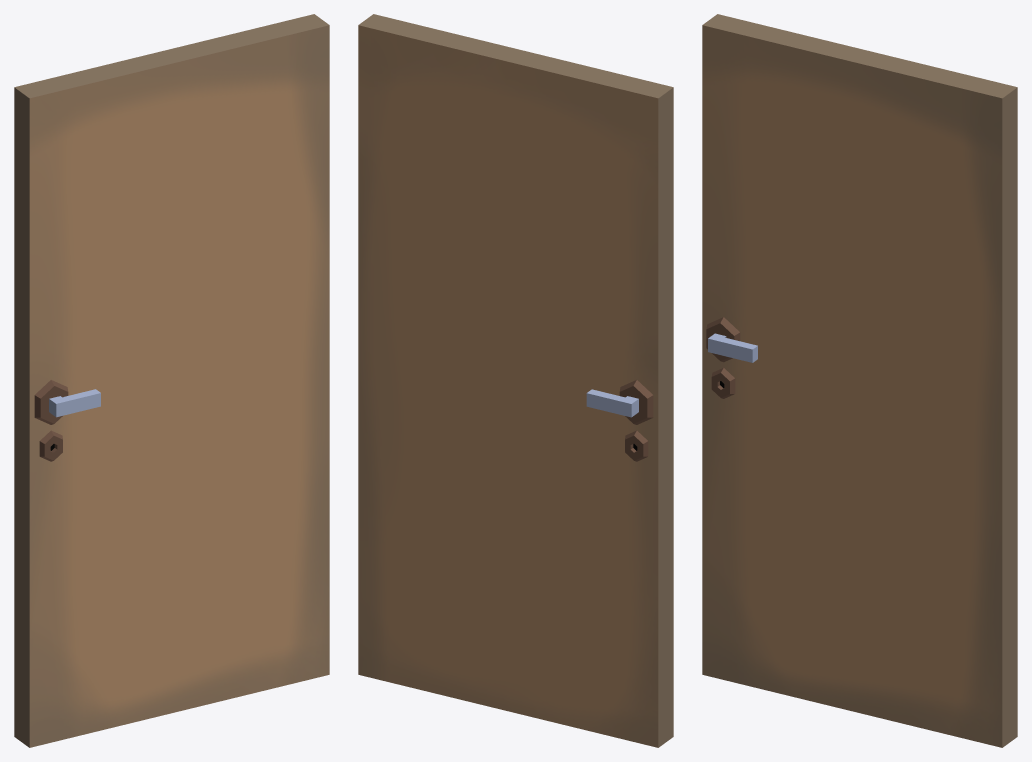
Rendered from PuertaInterior.fbx.
3 renders of one model, left to right at view 1: azimuth 30°, elevation 25°; view 2: azimuth 150°, elevation 25°; view 3: azimuth 330°, elevation 25°, orthographic.
Visible parts, largest first — view 1: PuertaInterior, PuertaInteriorManija; view 2: PuertaInterior, PuertaInteriorManija; view 3: PuertaInterior, PuertaInteriorManija.
Part boxes in pixels (x1=…): PuertaInterior: x1=14, y1=14, x2=329, y2=747; PuertaInteriorManija: x1=49, y1=389, x2=100, y2=417; PuertaInterior: x1=358, y1=14, x2=673, y2=747; PuertaInteriorManija: x1=586, y1=389, x2=638, y2=417; PuertaInterior: x1=702, y1=14, x2=1017, y2=747; PuertaInteriorManija: x1=708, y1=333, x2=757, y2=362.
Size of the model in its own units: 64.43 by 133 by 13.58.
